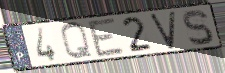2: (121, 15, 155, 53)
4: (34, 25, 60, 63)
E: (86, 16, 127, 59)
Q: (59, 21, 95, 62)
S: (181, 8, 215, 47)
V: (149, 9, 176, 51)
